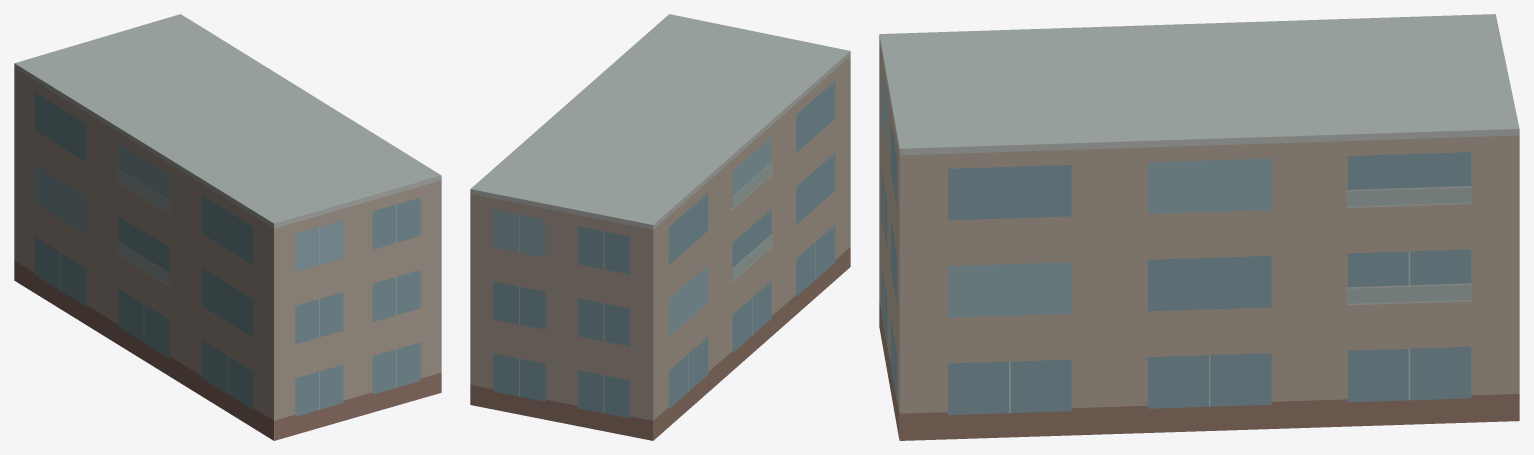
File: survey-upis-32735908.glb
The picture shows the model from 3 angles, left to right: view 1: azimuth 30°, elevation 25°; view 2: azimuth 150°, elevation 25°; view 3: azimuth 270°, elevation 25°; orthographic projection. The views are drawn at different scales.
Visible parts, largest first — view 1: survey-upis-32735908.tmp; view 2: survey-upis-32735908.tmp; view 3: survey-upis-32735908.tmp.
Part boxes in pixels (x1=…): survey-upis-32735908.tmp: x1=14, y1=14, x2=441, y2=440; survey-upis-32735908.tmp: x1=470, y1=14, x2=850, y2=440; survey-upis-32735908.tmp: x1=879, y1=14, x2=1519, y2=440.
Size of the model in its own units: 10.8 by 10.9 by 21.67.
